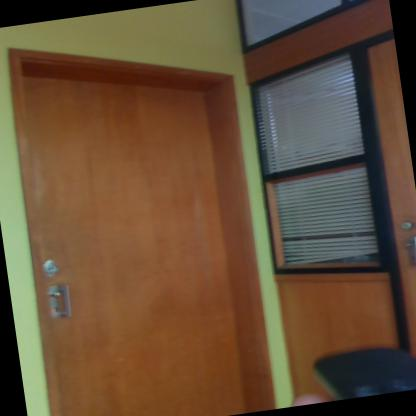closed: (0, 16, 285, 415)
